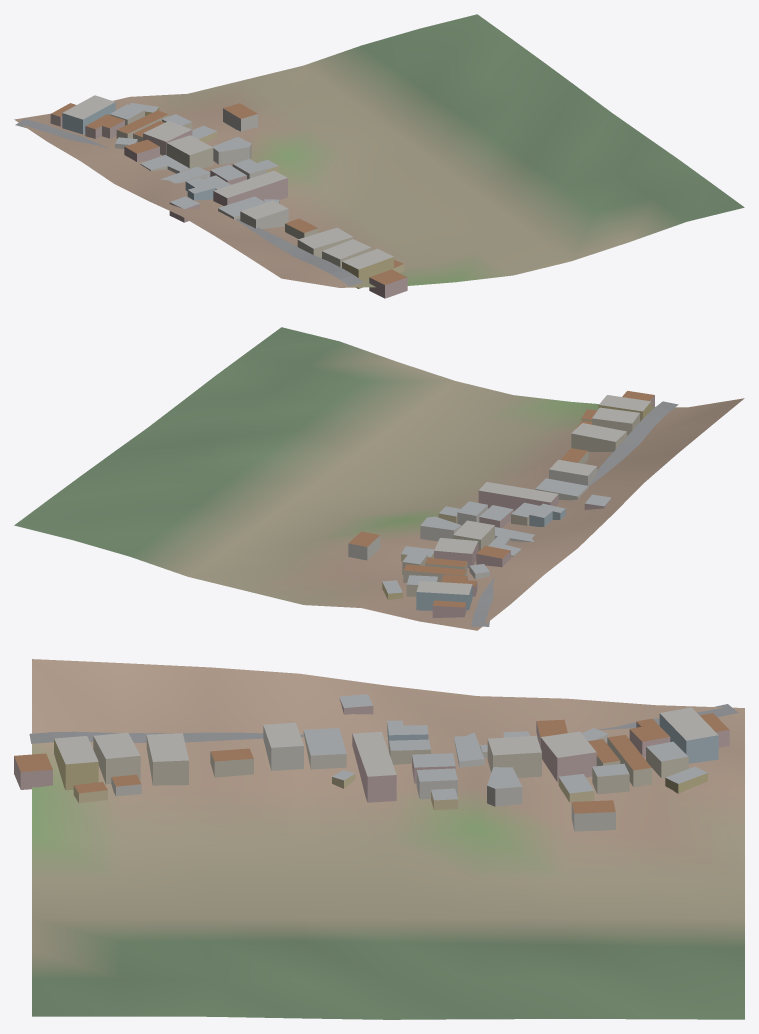
The picture shows the model from 3 angles, top to bottom: view 1: azimuth 30°, elevation 25°; view 2: azimuth 150°, elevation 25°; view 3: azimuth 270°, elevation 25°; orthographic projection. The views are drawn at different scales.
Parts seen in each view (by area): view 1: Lo; view 2: Lo; view 3: Lo.
Part boxes in pixels (<box>): Lo: <box>14,14,744,298</box>; Lo: <box>14,327,744,630</box>; Lo: <box>14,659,744,1019</box>.
Bounding box in the file's own units: 259 × 28.2 × 262.
